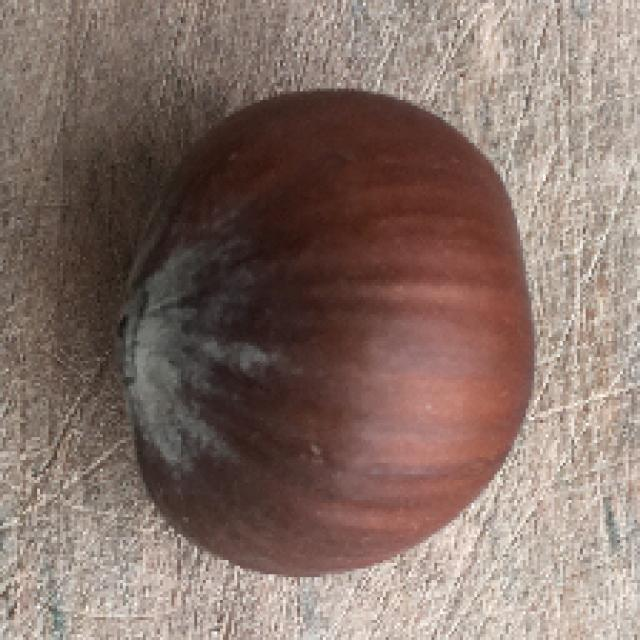DamagedHazelnut: (116, 91, 537, 576)
